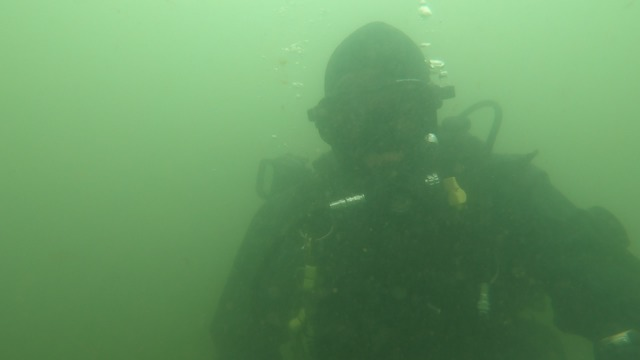Diver: (201, 18, 637, 358)
Head: (306, 24, 460, 204)
